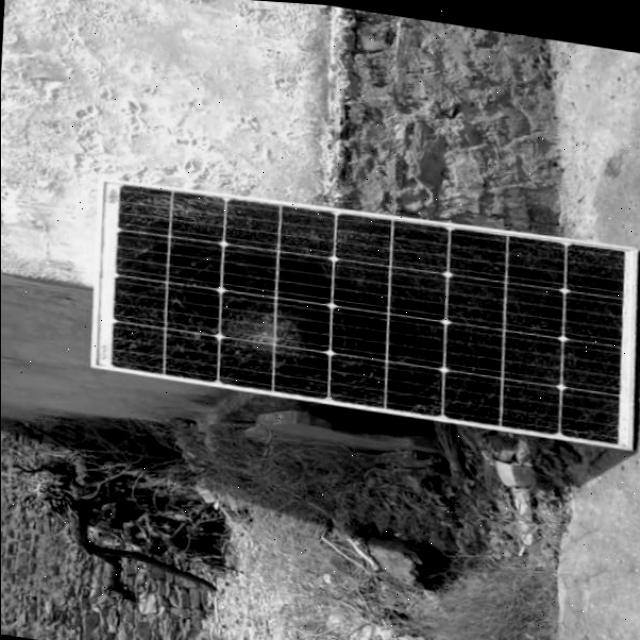Anomaly Solar Panel: (99, 169, 635, 441)
Structural Damage: (131, 185, 347, 256), (212, 288, 306, 375)
